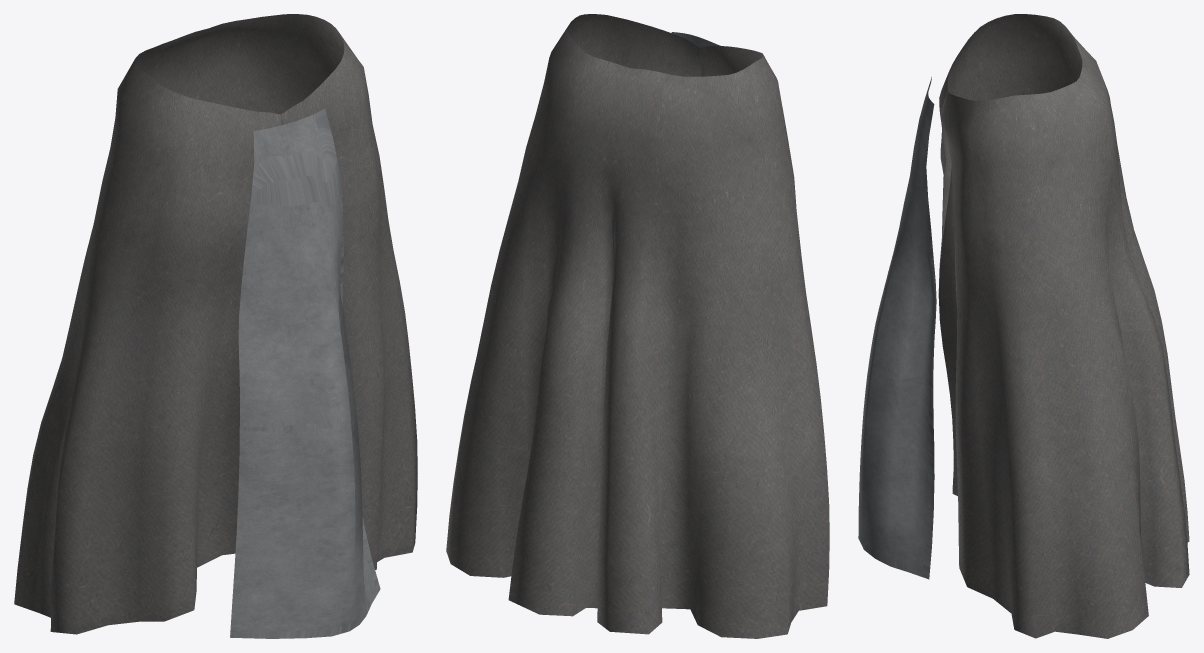
The model's file is clo_rivendell_torso_light_armored_tier1_2.fbx.
3 renders of one model, left to right at view 1: azimuth 30°, elevation 25°; view 2: azimuth 150°, elevation 25°; view 3: azimuth 270°, elevation 25°, orthographic. The views are drawn at different scales.
Parts seen in each view (by area): view 1: clo_rivendell_torso_light_armored_tier1_2; view 2: clo_rivendell_torso_light_armored_tier1_2; view 3: clo_rivendell_torso_light_armored_tier1_2.
Boxes of the visible parts, x1,y1,x2,y2 form: clo_rivendell_torso_light_armored_tier1_2: (14,14,417,638); clo_rivendell_torso_light_armored_tier1_2: (446,14,829,638); clo_rivendell_torso_light_armored_tier1_2: (858,14,1189,638).
Size of the model in its own units: 0.6018 by 0.5129 by 0.8769.
Materials: 1 (1 with a texture image).
